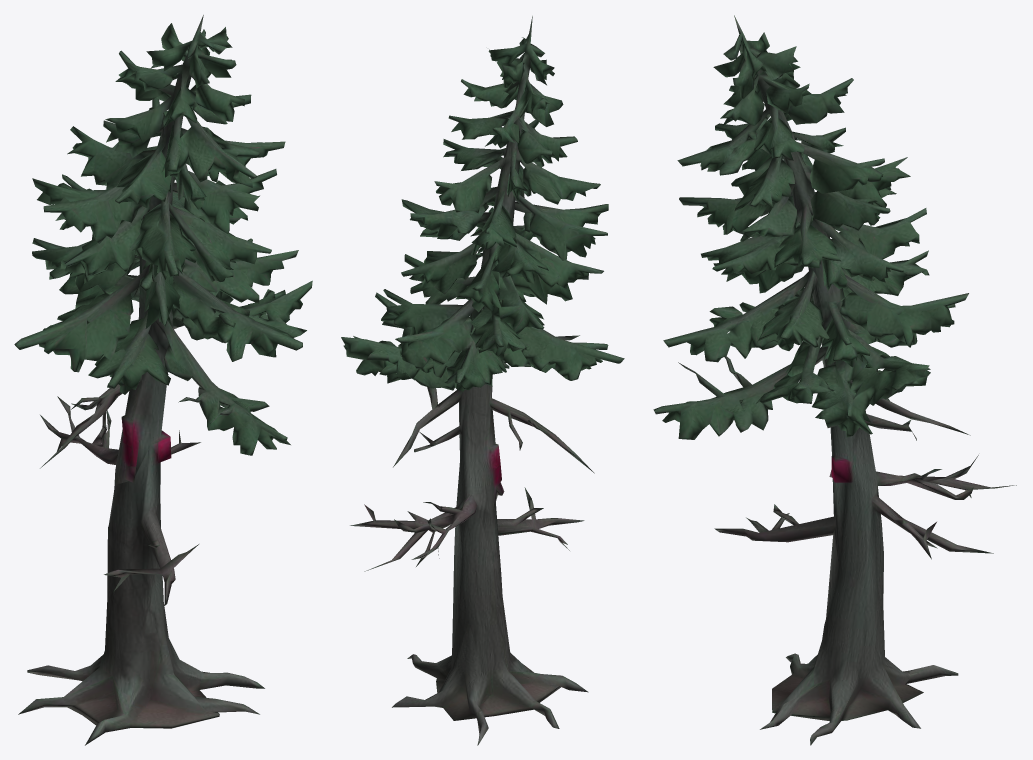
Rendered from spruce_tree.glb.
3 views of the same model, side by side, from view 1: azimuth 30°, elevation 25°; view 2: azimuth 150°, elevation 25°; view 3: azimuth 270°, elevation 25° (orthographic). The views are drawn at different scales.
Parts seen in each view (by area): view 1: Mesh_0; view 2: Mesh_0; view 3: Mesh_0.
Boxes of the visible parts, box(x1,y1,x2,y2) form: Mesh_0: box(14, 15, 312, 745); Mesh_0: box(341, 16, 624, 745); Mesh_0: box(653, 15, 1016, 745).
Bounding box in the file's own units: 0.7915 × 1.91 × 0.9176.
1 material, 1 textured.
